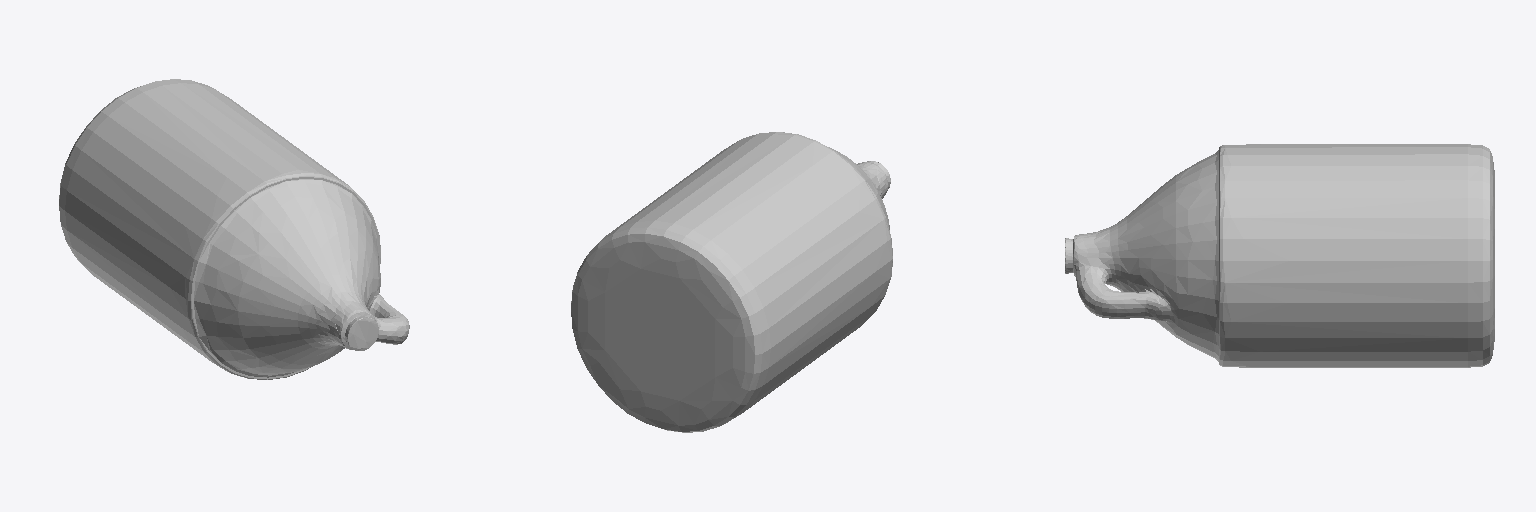
File: tinker.obj
The picture shows the model from 3 angles: view 1: azimuth 30°, elevation 25°; view 2: azimuth 150°, elevation 25°; view 3: azimuth 270°, elevation 25°; orthographic projection.
Visible parts, largest first — view 1: obj_0.030; view 2: obj_0.030; view 3: obj_0.030.
Boxes of the visible parts, box(x1,y1,x2,y2) form: obj_0.030: box(59, 79, 409, 379); obj_0.030: box(571, 132, 892, 432); obj_0.030: box(1065, 144, 1494, 367).
Bounding box in the file's own units: 6.5 × 6.5 × 12.5.